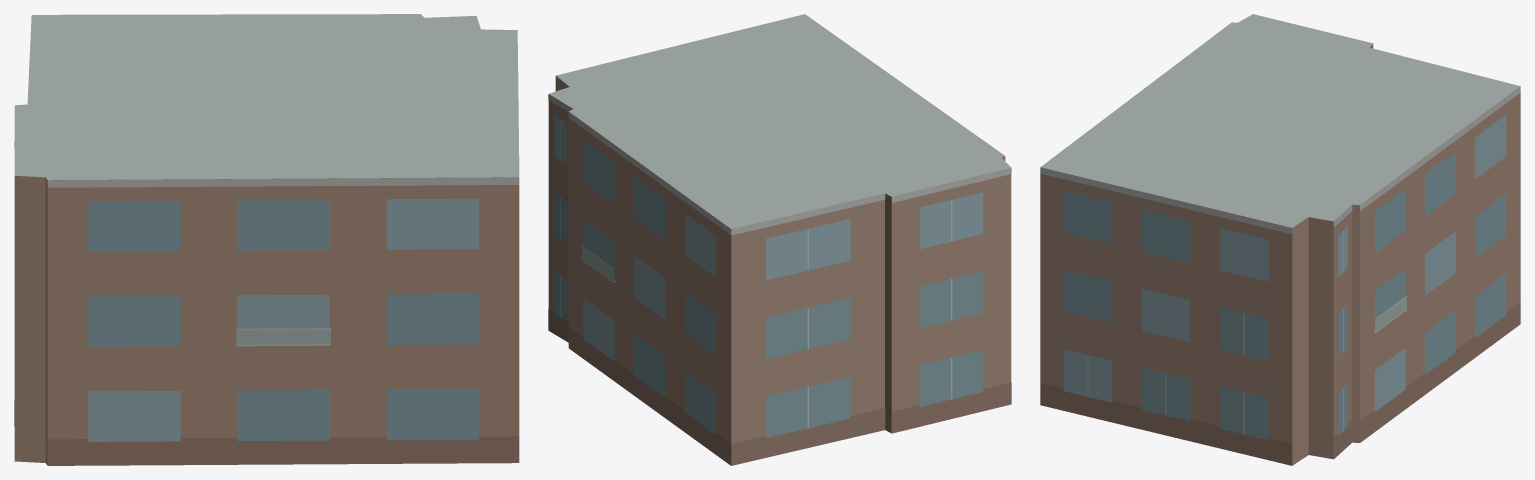
The model's file is survey-upis-32722112.glb.
3 renders of one model, left to right at view 1: azimuth 30°, elevation 25°; view 2: azimuth 150°, elevation 25°; view 3: azimuth 270°, elevation 25°, orthographic. The views are drawn at different scales.
Visible parts, largest first — view 1: survey-upis-32722112.tmp; view 2: survey-upis-32722112.tmp; view 3: survey-upis-32722112.tmp.
Part boxes in pixels (left/top/right/bottom): survey-upis-32722112.tmp: left=14, top=14, right=519, bottom=465; survey-upis-32722112.tmp: left=548, top=14, right=1011, bottom=465; survey-upis-32722112.tmp: left=1040, top=14, right=1520, bottom=465.
Size of the model in its own units: 17.66 by 9.15 by 16.75.
